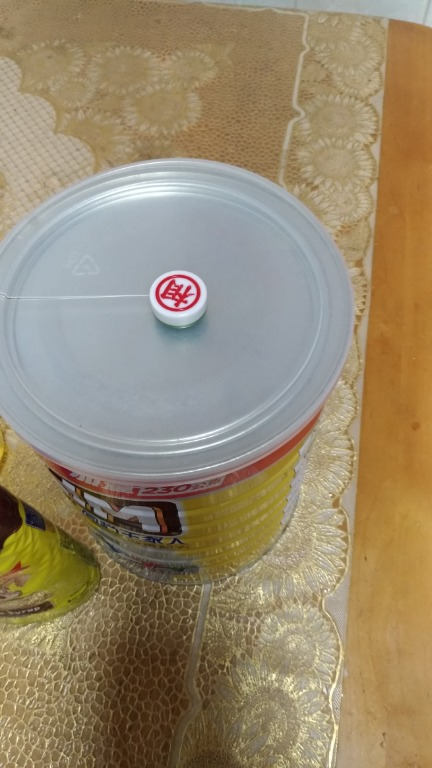r-elephant: (133, 264, 222, 342)
